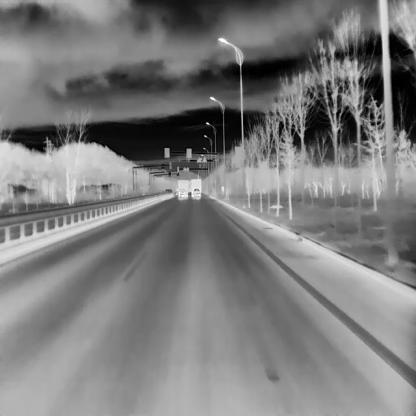car: (178, 179, 188, 196), (191, 179, 201, 196), (177, 189, 186, 199), (191, 188, 200, 198)
